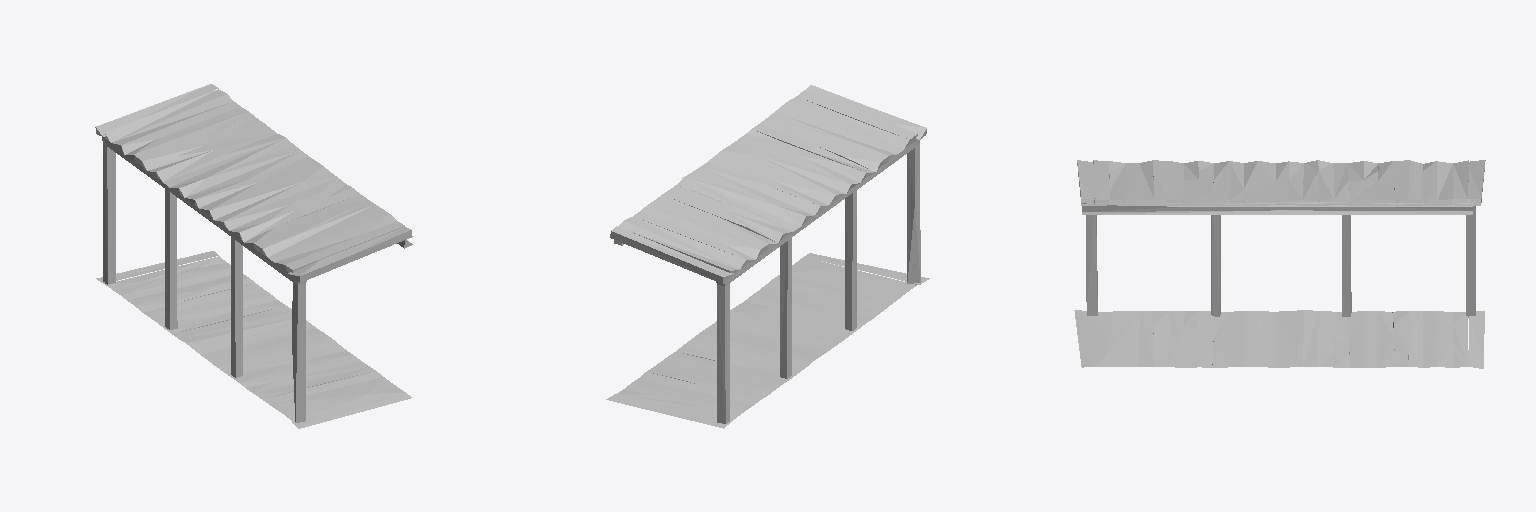
File: Porch_LOD2.obj
The picture shows the model from 3 angles: view 1: azimuth 30°, elevation 25°; view 2: azimuth 150°, elevation 25°; view 3: azimuth 270°, elevation 25°; orthographic projection.
Parts seen in each view (by area): view 1: WildWest_Porch; view 2: WildWest_Porch; view 3: WildWest_Porch.
Boxes of the visible parts, <box> form: WildWest_Porch: <box>95,84,412,428</box>; WildWest_Porch: <box>606,85,929,428</box>; WildWest_Porch: <box>1074,160,1485,368</box>.
Size of the model in its own units: 2.52 by 3.4 by 7.45.